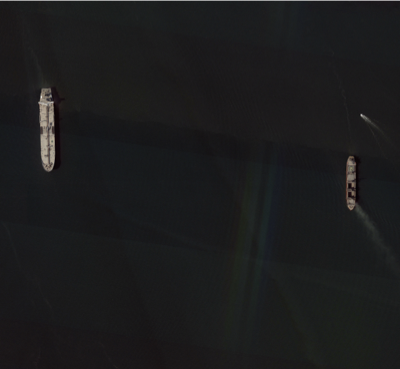boat: (38, 87, 57, 172), (346, 155, 357, 211), (361, 114, 364, 116)
